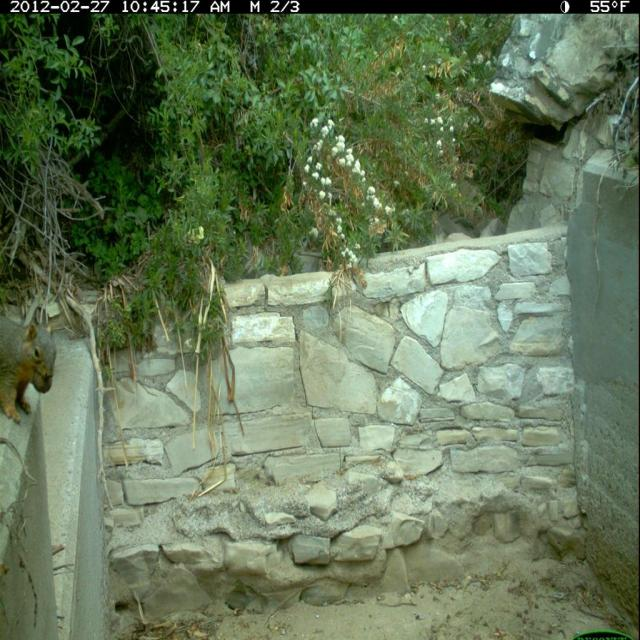squirrel: (1, 293, 59, 425)
